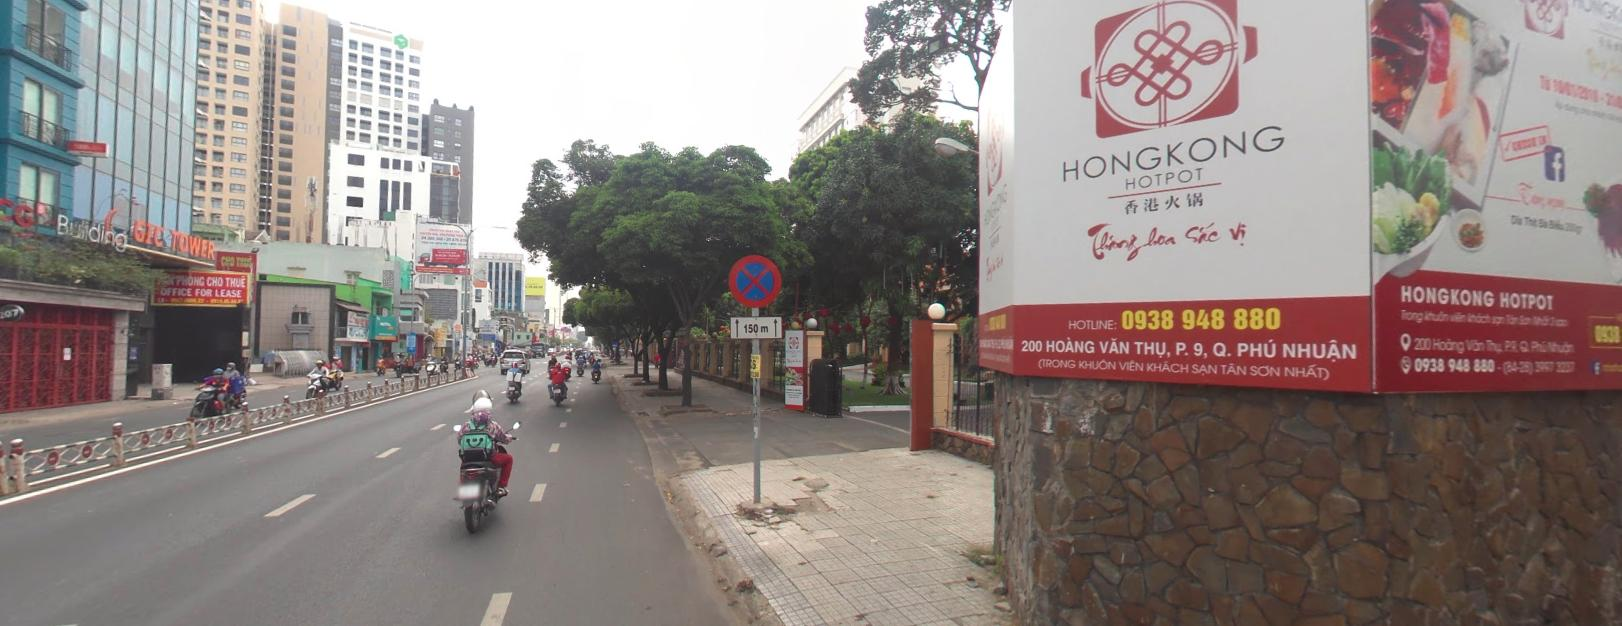Cam dung va do: (729, 251, 783, 305)
